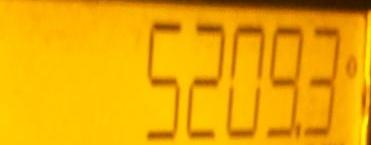0: (295, 122, 302, 137)
1: (228, 26, 266, 140)
3: (185, 23, 227, 140)
4: (303, 26, 342, 137)
6: (145, 20, 183, 138)
:: (266, 28, 304, 138)
